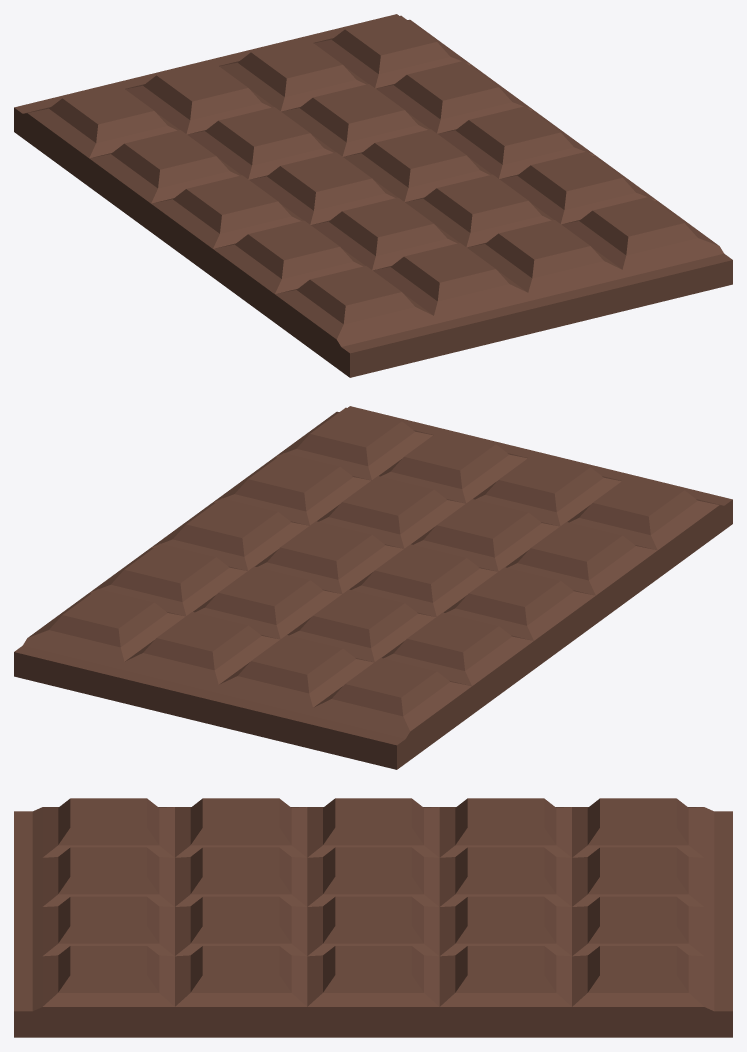
The model's file is ChocolateBar.fbx.
The picture shows the model from 3 angles, top to bottom: view 1: azimuth 30°, elevation 25°; view 2: azimuth 150°, elevation 25°; view 3: azimuth 270°, elevation 25°; orthographic projection. The views are drawn at different scales.
Parts seen in each view (by area): view 1: ChocolateBar.001, ChocolateBar.003, ChocolateBar.002, ChocolateBar.004, ChocolateBar; view 2: ChocolateBar.003, ChocolateBar.001, ChocolateBar.002, ChocolateBar, ChocolateBar.004; view 3: ChocolateBar.001, ChocolateBar.003, ChocolateBar.004, ChocolateBar, ChocolateBar.002.
Boxes of the visible parts, x1,y1,x2,y2 form: ChocolateBar.001: (275, 197, 732, 377); ChocolateBar.003: (14, 14, 471, 186); ChocolateBar.002: (151, 106, 595, 277); ChocolateBar.004: (213, 151, 657, 322); ChocolateBar: (89, 61, 533, 231); ChocolateBar.003: (14, 589, 471, 769); ChocolateBar.001: (275, 406, 732, 578); ChocolateBar.002: (151, 498, 595, 669); ChocolateBar: (89, 543, 533, 714); ChocolateBar.004: (213, 453, 657, 623); ChocolateBar.001: (14, 798, 174, 1037); ChocolateBar.003: (572, 798, 732, 1037); ChocolateBar.004: (174, 798, 307, 1037); ChocolateBar: (439, 798, 572, 1037); ChocolateBar.002: (307, 798, 439, 1037).
Size of the model in its own units: 110 by 13.12 by 168.
